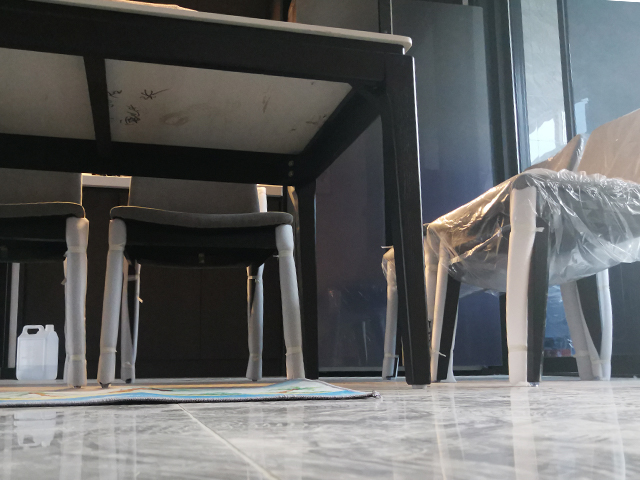carpet: (1, 385, 382, 410)
stool: (378, 107, 640, 389), (99, 176, 306, 392), (1, 169, 86, 390)
table: (1, 1, 434, 390)
